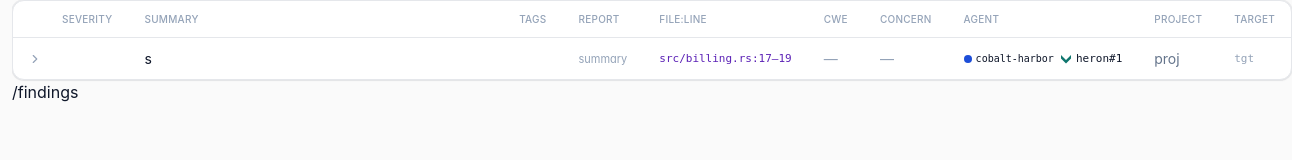
it: FindingsTable deep-link › navigates using the row's own ws_id (FindingOut) when present
The image size is (1292, 160).
Click the button "src/billing.rs:17–19". click: (726, 58)
box: [659,48,792,68]
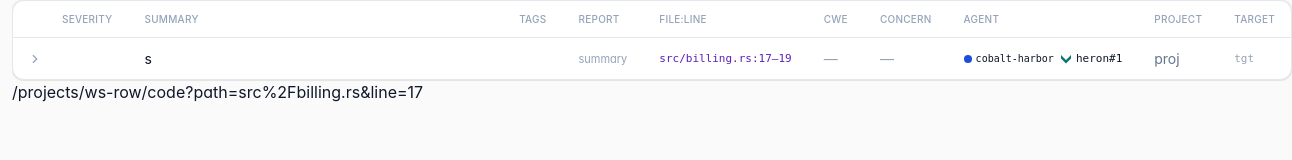
Expected: the text with test id "loc" reads "/projects/ws-row/code?path=src%2Fbilling.rs&line=17", [12,82,423,102]
